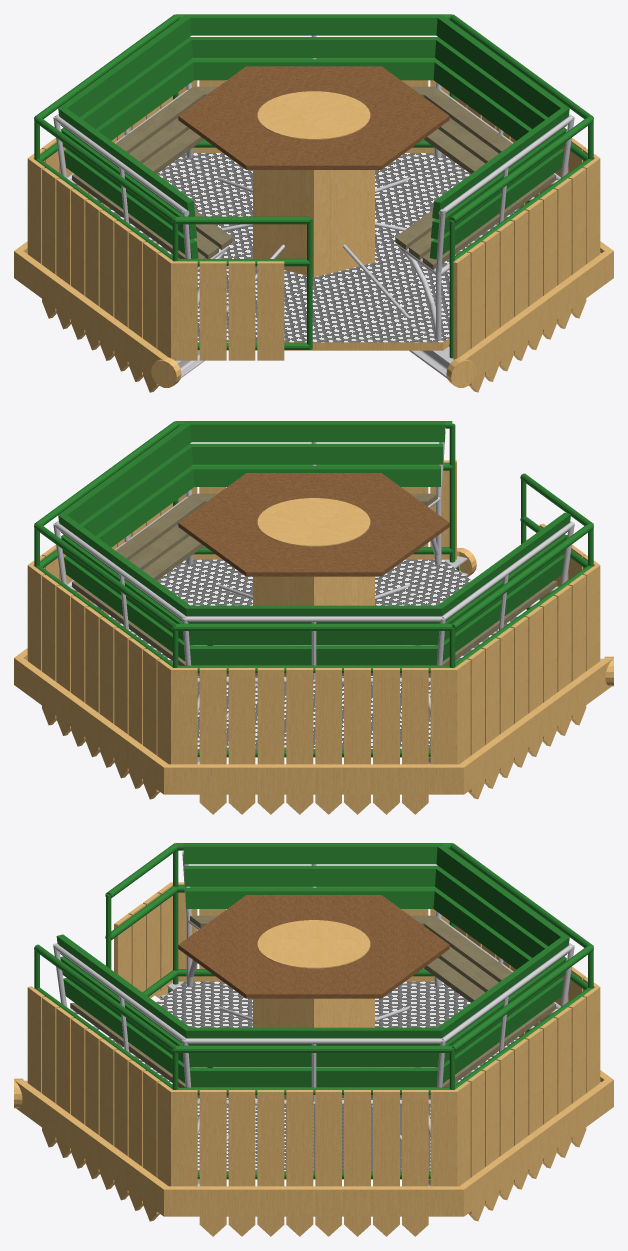
File: M_hub_full.fbx
The picture shows the model from 3 angles, top to bottom: view 1: azimuth 30°, elevation 25°; view 2: azimuth 150°, elevation 25°; view 3: azimuth 270°, elevation 25°; orthographic projection.
Visible parts, largest first — view 1: Wd-Pine Vertical, Paint-20, Mtl-Sheet Perforated, Wd-Oak, Wd-Planks, Mtl-Stainless Steel, Wd-Pine Horizontal; view 2: Wd-Pine Vertical, Paint-20, Wd-Oak, Mtl-Sheet Perforated, Mtl-Stainless Steel, Wd-Planks, Wd-Pine Horizontal; view 3: Wd-Pine Vertical, Paint-20, Wd-Oak, Mtl-Sheet Perforated, Mtl-Stainless Steel, Wd-Planks, Wd-Pine Horizontal.
Part boxes in pixels (box(x1,y1,x2,y2)): Wd-Pine Vertical: box(14, 80, 613, 392); Paint-20: box(34, 14, 593, 358); Mtl-Sheet Perforated: box(108, 153, 519, 342); Wd-Oak: box(178, 66, 449, 169); Wd-Planks: box(72, 86, 555, 269); Mtl-Stainless Steel: box(27, 35, 600, 378); Wd-Pine Horizontal: box(257, 91, 370, 139); Wd-Pine Vertical: box(14, 460, 613, 814); Paint-20: box(34, 421, 593, 756); Wd-Oak: box(178, 473, 449, 576); Mtl-Sheet Perforated: box(108, 559, 519, 748); Mtl-Stainless Steel: box(27, 427, 602, 764); Wd-Planks: box(72, 493, 557, 675); Wd-Pine Horizontal: box(257, 498, 370, 546); Wd-Pine Vertical: box(14, 882, 613, 1236); Paint-20: box(34, 843, 593, 1178); Wd-Oak: box(178, 895, 449, 998); Mtl-Sheet Perforated: box(108, 981, 519, 1170); Mtl-Stainless Steel: box(25, 850, 600, 1186); Wd-Planks: box(70, 915, 555, 1097); Wd-Pine Horizontal: box(257, 920, 370, 968).
Size of the model in its own units: 281 by 320 by 115.
8 materials, 5 textured.
